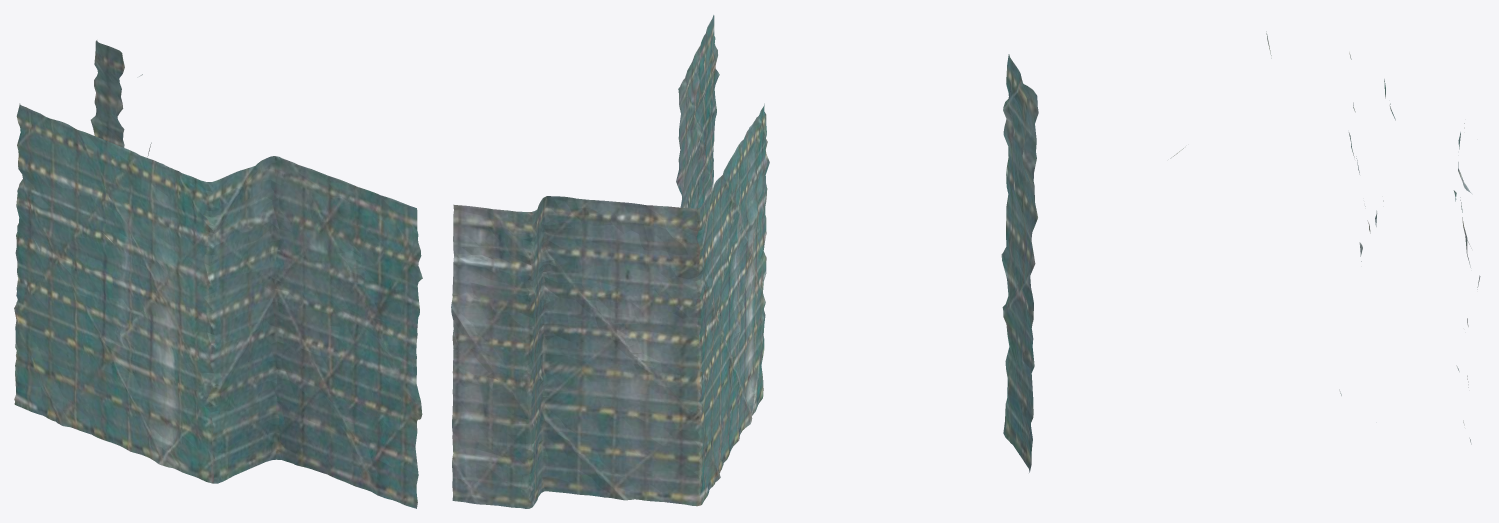
File: Tile_+002_+001_L22_00030300.glb
The picture shows the model from 3 angles, left to right: view 1: azimuth 30°, elevation 25°; view 2: azimuth 150°, elevation 25°; view 3: azimuth 270°, elevation 25°; orthographic projection. The views are drawn at different scales.
Visible parts, largest first — view 1: rtc; view 2: rtc; view 3: rtc.
Boxes of the visible parts, box(x1,y1,x2,y2) form: rtc: box(14, 40, 422, 508); rtc: box(451, 15, 769, 508); rtc: box(1001, 31, 1480, 472).
Size of the model in its own units: 7.19 by 10.6 by 17.48.
Materials: 1 (1 with a texture image).
